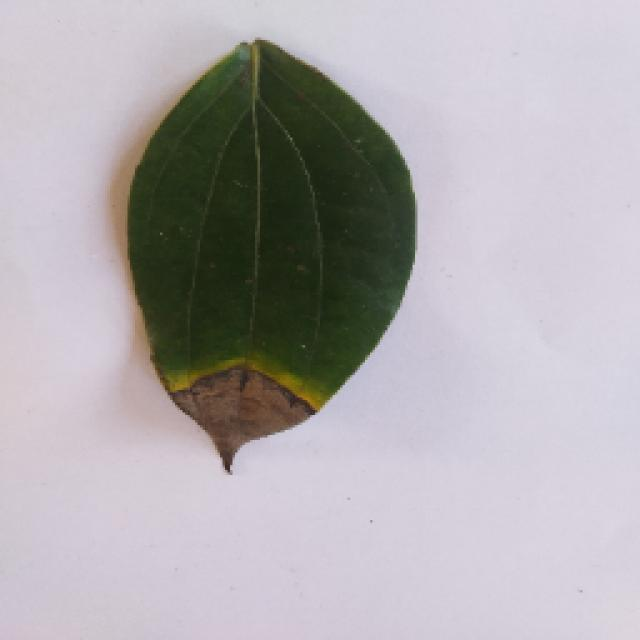footrot: (122, 35, 420, 473)
